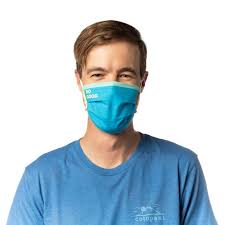mask: (82, 82, 140, 134)
